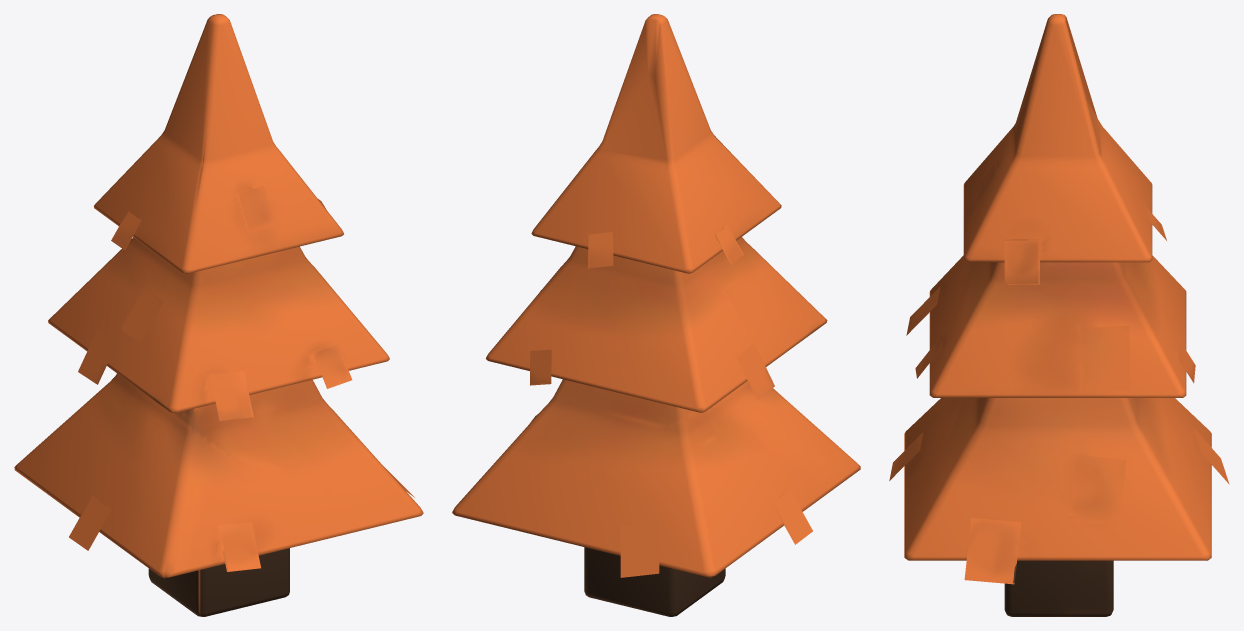
Rendered from tree 8.fbx.
The picture shows the model from 3 angles, left to right: view 1: azimuth 30°, elevation 25°; view 2: azimuth 150°, elevation 25°; view 3: azimuth 270°, elevation 25°; orthographic projection.
Visible parts, largest first — view 1: Cube.005; view 2: Cube.005; view 3: Cube.005.
Boxes of the visible parts, x1,y1,x2,y2 form: Cube.005: (14, 14, 423, 616); Cube.005: (452, 14, 860, 616); Cube.005: (889, 14, 1229, 616).
Size of the model in its own units: 221 by 407 by 216.
